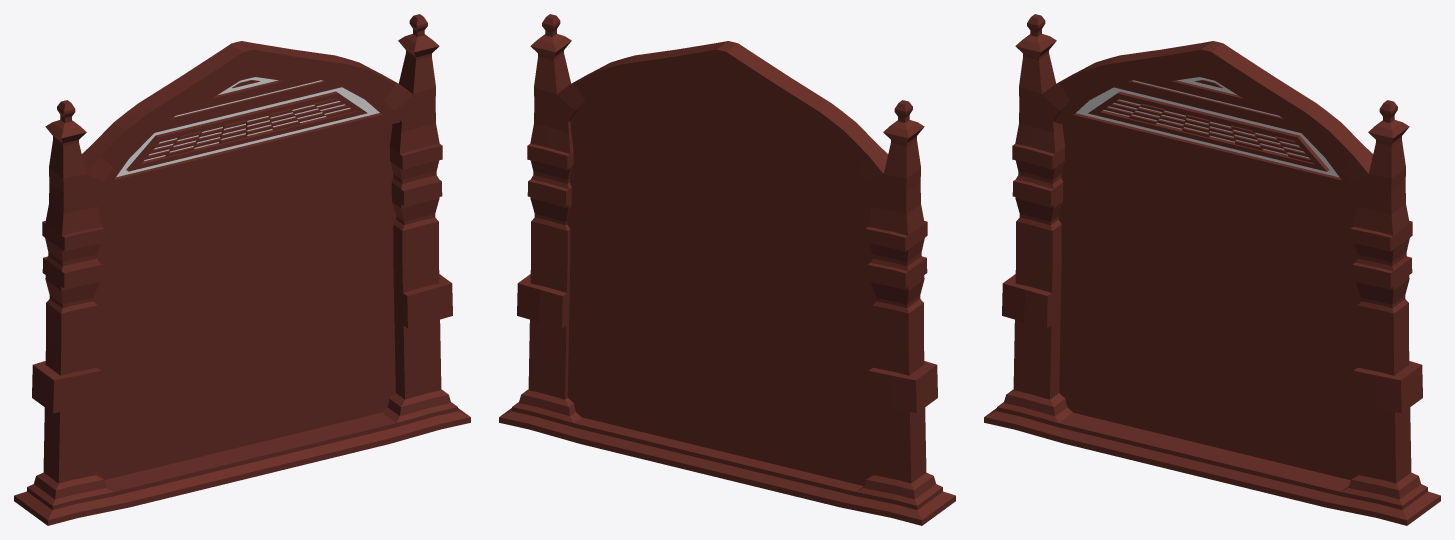
File: mirror_frame.fbx
3 renders of one model, left to right at view 1: azimuth 30°, elevation 25°; view 2: azimuth 150°, elevation 25°; view 3: azimuth 330°, elevation 25°, orthographic.
Parts seen in each view (by area): view 1: frame.001; view 2: frame.001; view 3: frame.001.
Part boxes in pixels (x1,y1,x2,y2): frame.001: (14,14,470,525); frame.001: (499,14,955,525); frame.001: (984,14,1440,525).
Bounding box in the file's own units: 394 × 371 × 54.56.
